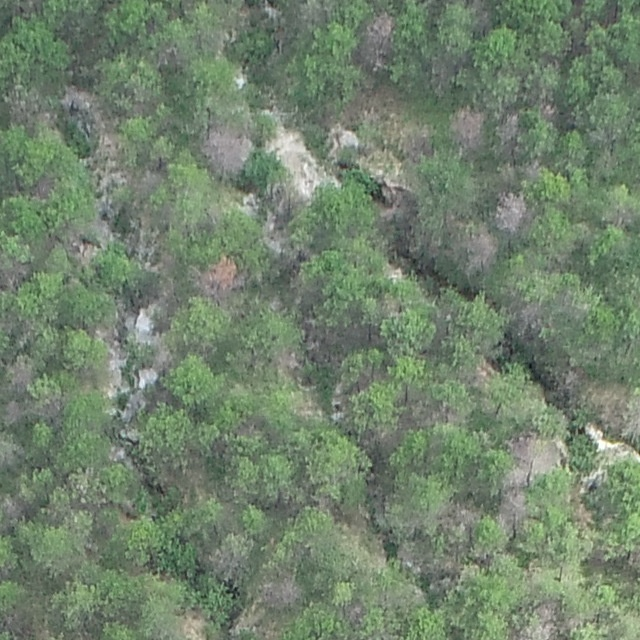unhealthy: (0, 77, 56, 130), (204, 125, 255, 183), (360, 11, 396, 71), (186, 254, 238, 295), (462, 218, 499, 274), (518, 596, 563, 640), (448, 102, 486, 149), (209, 535, 252, 575), (436, 493, 486, 526), (263, 574, 306, 611), (518, 437, 561, 470), (495, 491, 533, 526), (133, 167, 169, 203), (270, 342, 304, 380), (515, 297, 547, 337), (58, 82, 98, 112), (497, 194, 528, 232), (404, 123, 434, 160), (0, 262, 36, 292), (24, 395, 65, 421), (431, 54, 457, 95), (5, 354, 37, 387), (65, 241, 100, 269), (492, 113, 520, 142), (498, 468, 533, 491), (0, 398, 23, 430), (181, 613, 206, 640), (0, 493, 19, 526), (539, 100, 559, 120)
